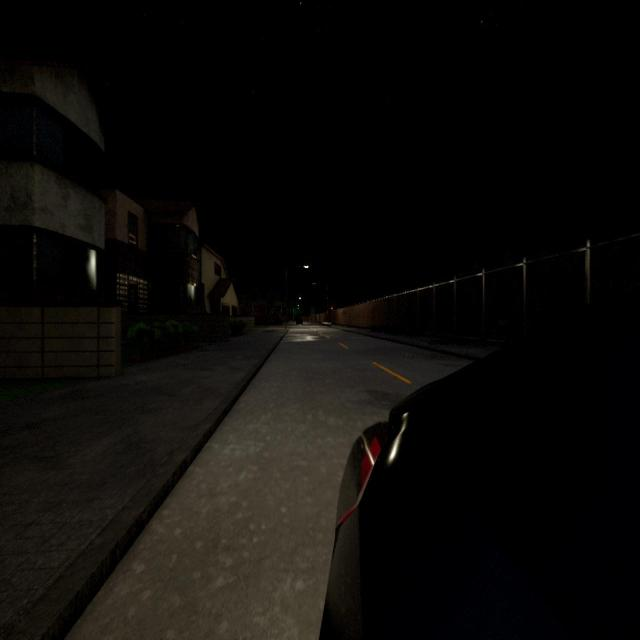Vehicle: (320, 273, 640, 637), (296, 316, 303, 326)
traffic_light: (331, 306, 333, 312)
